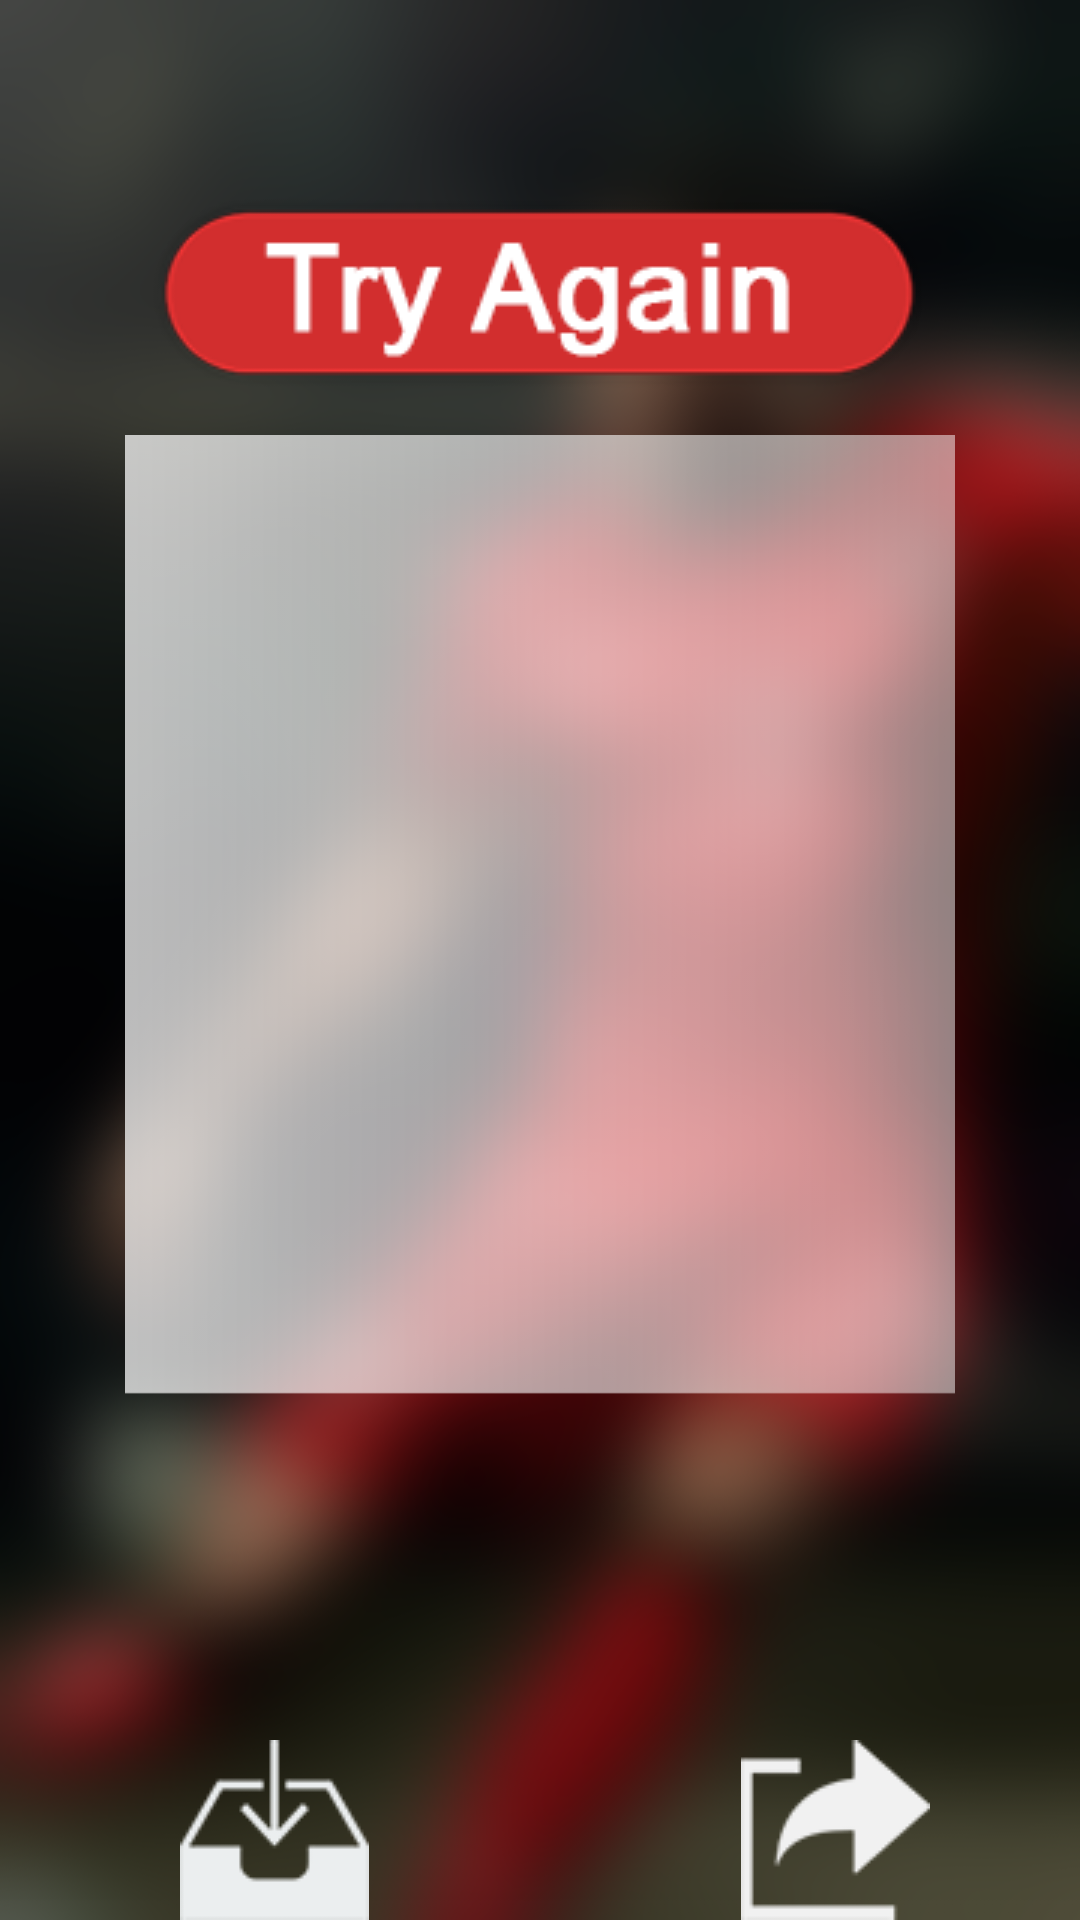

Icons on this 1080x1920 Android screen, each with its box as (x1, y1, x2, y2):
imgdownload: (180, 1779, 369, 1920)
imgshare: (741, 1740, 930, 1920)
